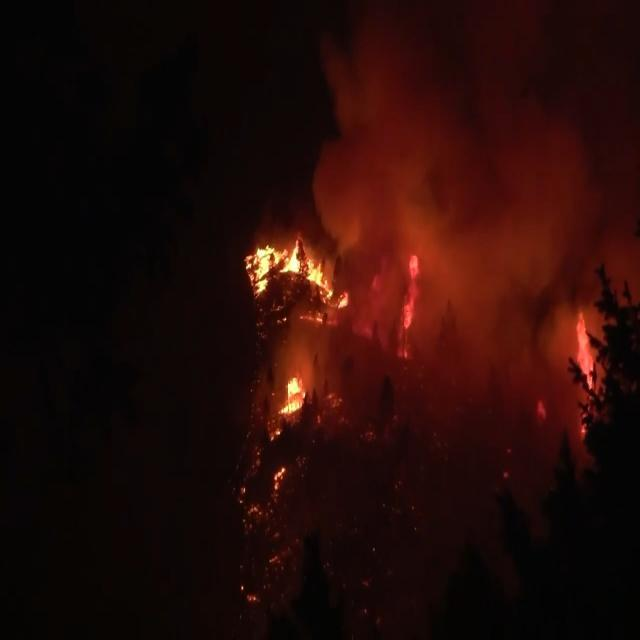Fire: (242, 217, 593, 612)
